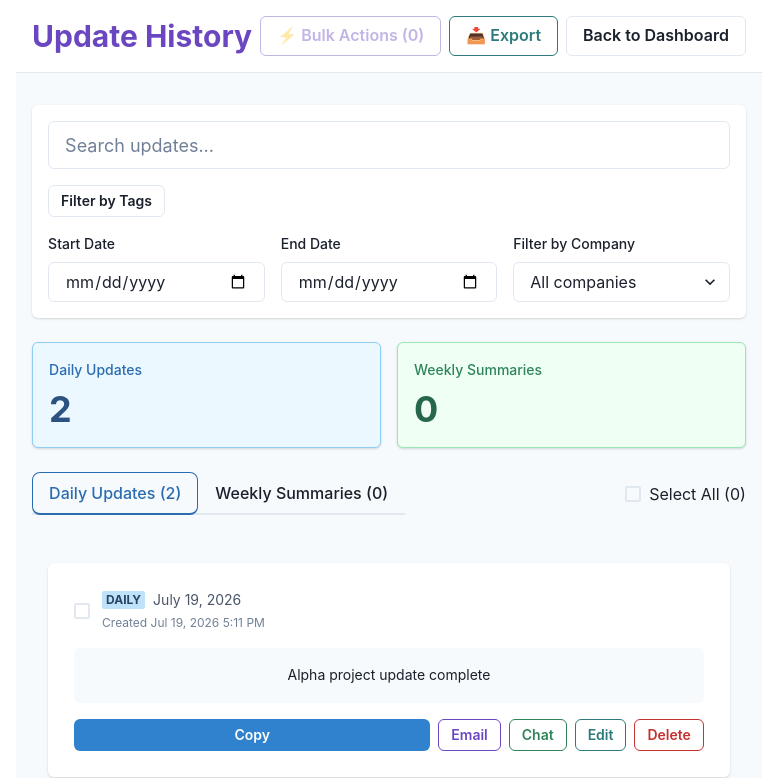
History page › shows the Chat button when Google Chat is linked and sends the update
The width and height of the screenshot is (779, 778).
Check: the text "Alpha project update complete" is shown, box [74,648,704,703]
Click the button "Chat".
click(538, 735)  # box [509,719,567,751]
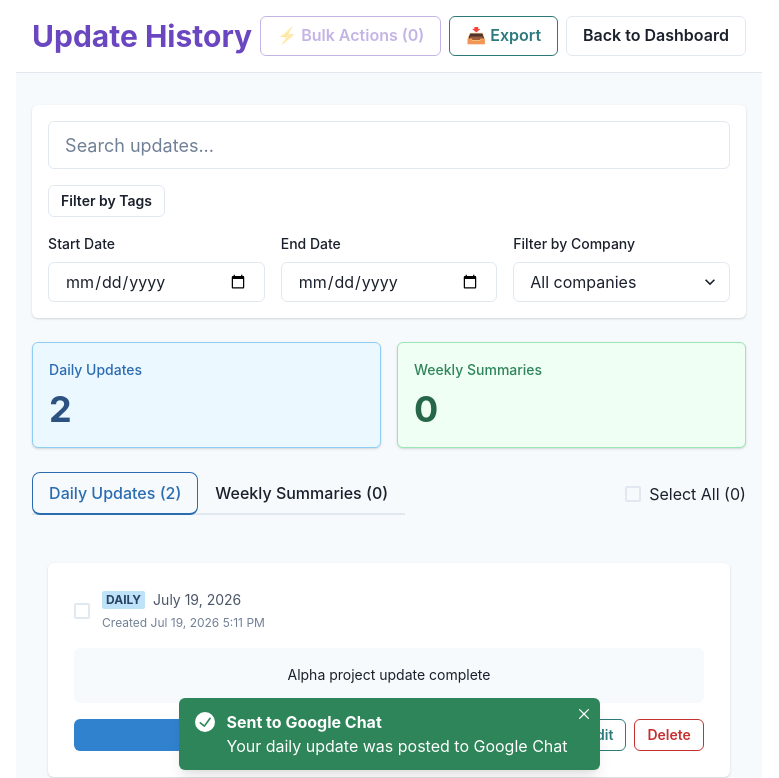
Check: the text "Sent to Google Chat" is shown, box [226,712,382,732]
